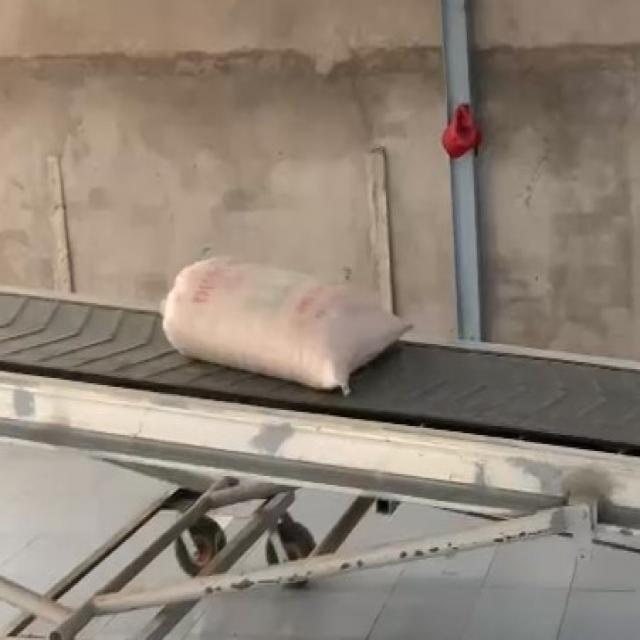gunny_bag: (163, 257, 412, 393)
